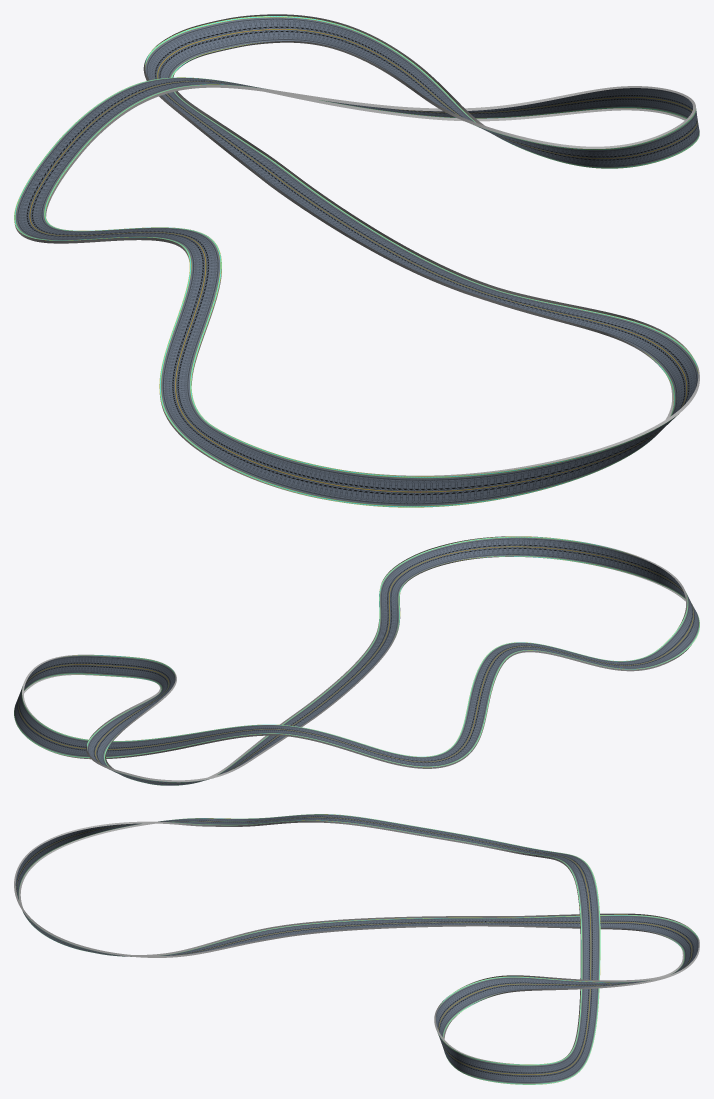
Rendered from Track_Collider.fbx.
The picture shows the model from 3 angles, top to bottom: view 1: azimuth 30°, elevation 25°; view 2: azimuth 150°, elevation 25°; view 3: azimuth 270°, elevation 25°; orthographic projection. The views are drawn at different scales.
Parts seen in each view (by area): view 1: Track_Surface, Mesh_Colllider; view 2: Track_Surface, Mesh_Colllider; view 3: Track_Surface, Mesh_Colllider.
Boxes of the visible parts, bbox=[...] form: Track_Surface: bbox=[14, 16, 699, 507]; Mesh_Colllider: bbox=[14, 14, 699, 500]; Track_Surface: bbox=[14, 536, 699, 785]; Mesh_Colllider: bbox=[22, 536, 691, 782]; Track_Surface: bbox=[15, 814, 698, 1084]; Mesh_Colllider: bbox=[14, 820, 699, 1064].
Size of the model in its own units: 526 by 94.37 by 655.
